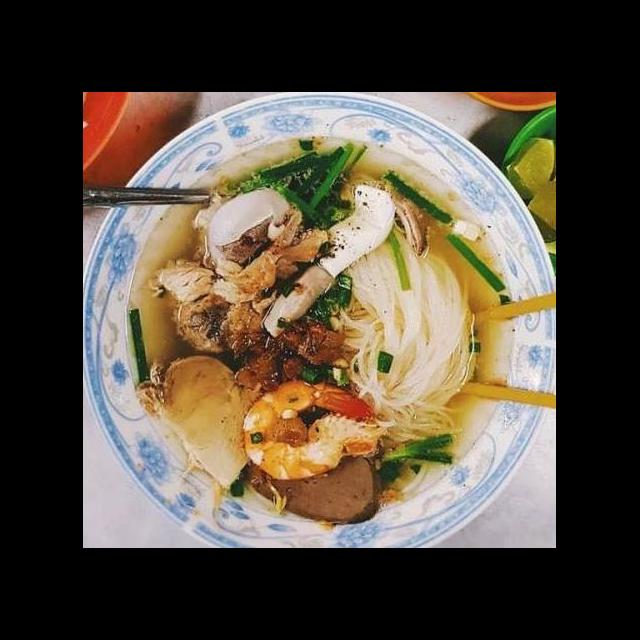banh hu tieu: (326, 218, 492, 454)
gan: (238, 436, 388, 531)
hu tieu: (99, 132, 556, 548)
muc: (310, 184, 404, 281), (200, 182, 298, 273)
thit heo: (144, 349, 278, 495)
tom: (238, 376, 388, 483)
